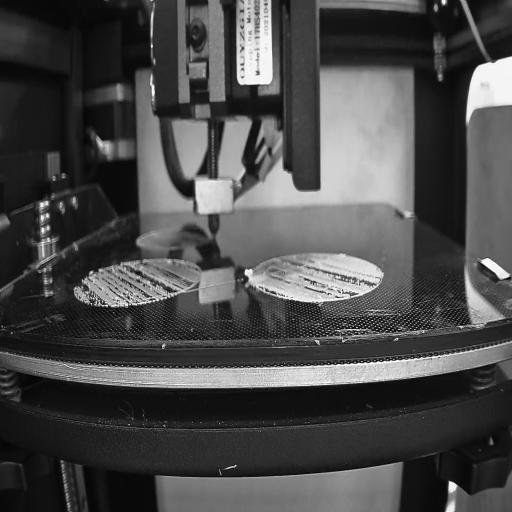under_extrusion: (79, 257, 198, 307), (255, 259, 381, 299)
